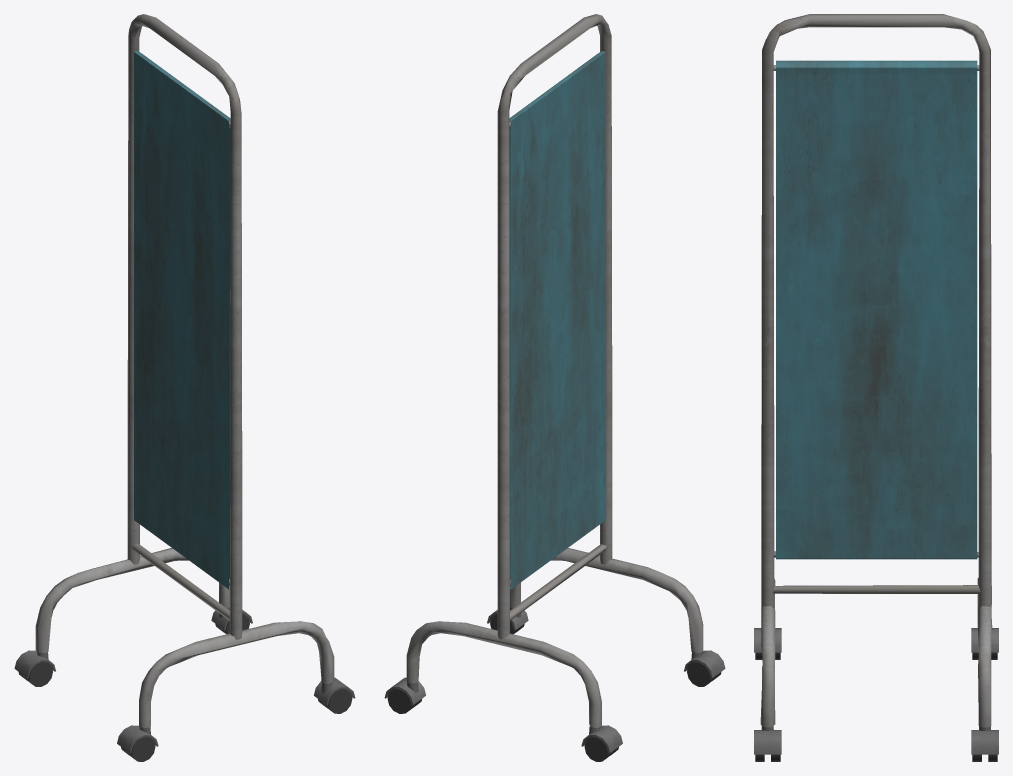
The model's file is privacy_screen.glb.
3 views of the same model, side by side, from view 1: azimuth 30°, elevation 25°; view 2: azimuth 150°, elevation 25°; view 3: azimuth 270°, elevation 25° (orthographic). The views are drawn at different scales.
Parts seen in each view (by area): view 1: Cylinder.001_Material.001_0; view 2: Cylinder.001_Material.001_0; view 3: Cylinder.001_Material.001_0.
Boxes of the visible parts, box(x1,y1,x2,y2) form: Cylinder.001_Material.001_0: box(14, 14, 355, 761); Cylinder.001_Material.001_0: box(384, 14, 725, 761); Cylinder.001_Material.001_0: box(754, 14, 998, 761).
Size of the model in its own units: 0.6681 by 1.85 by 0.5917.
1 material, 1 textured.
